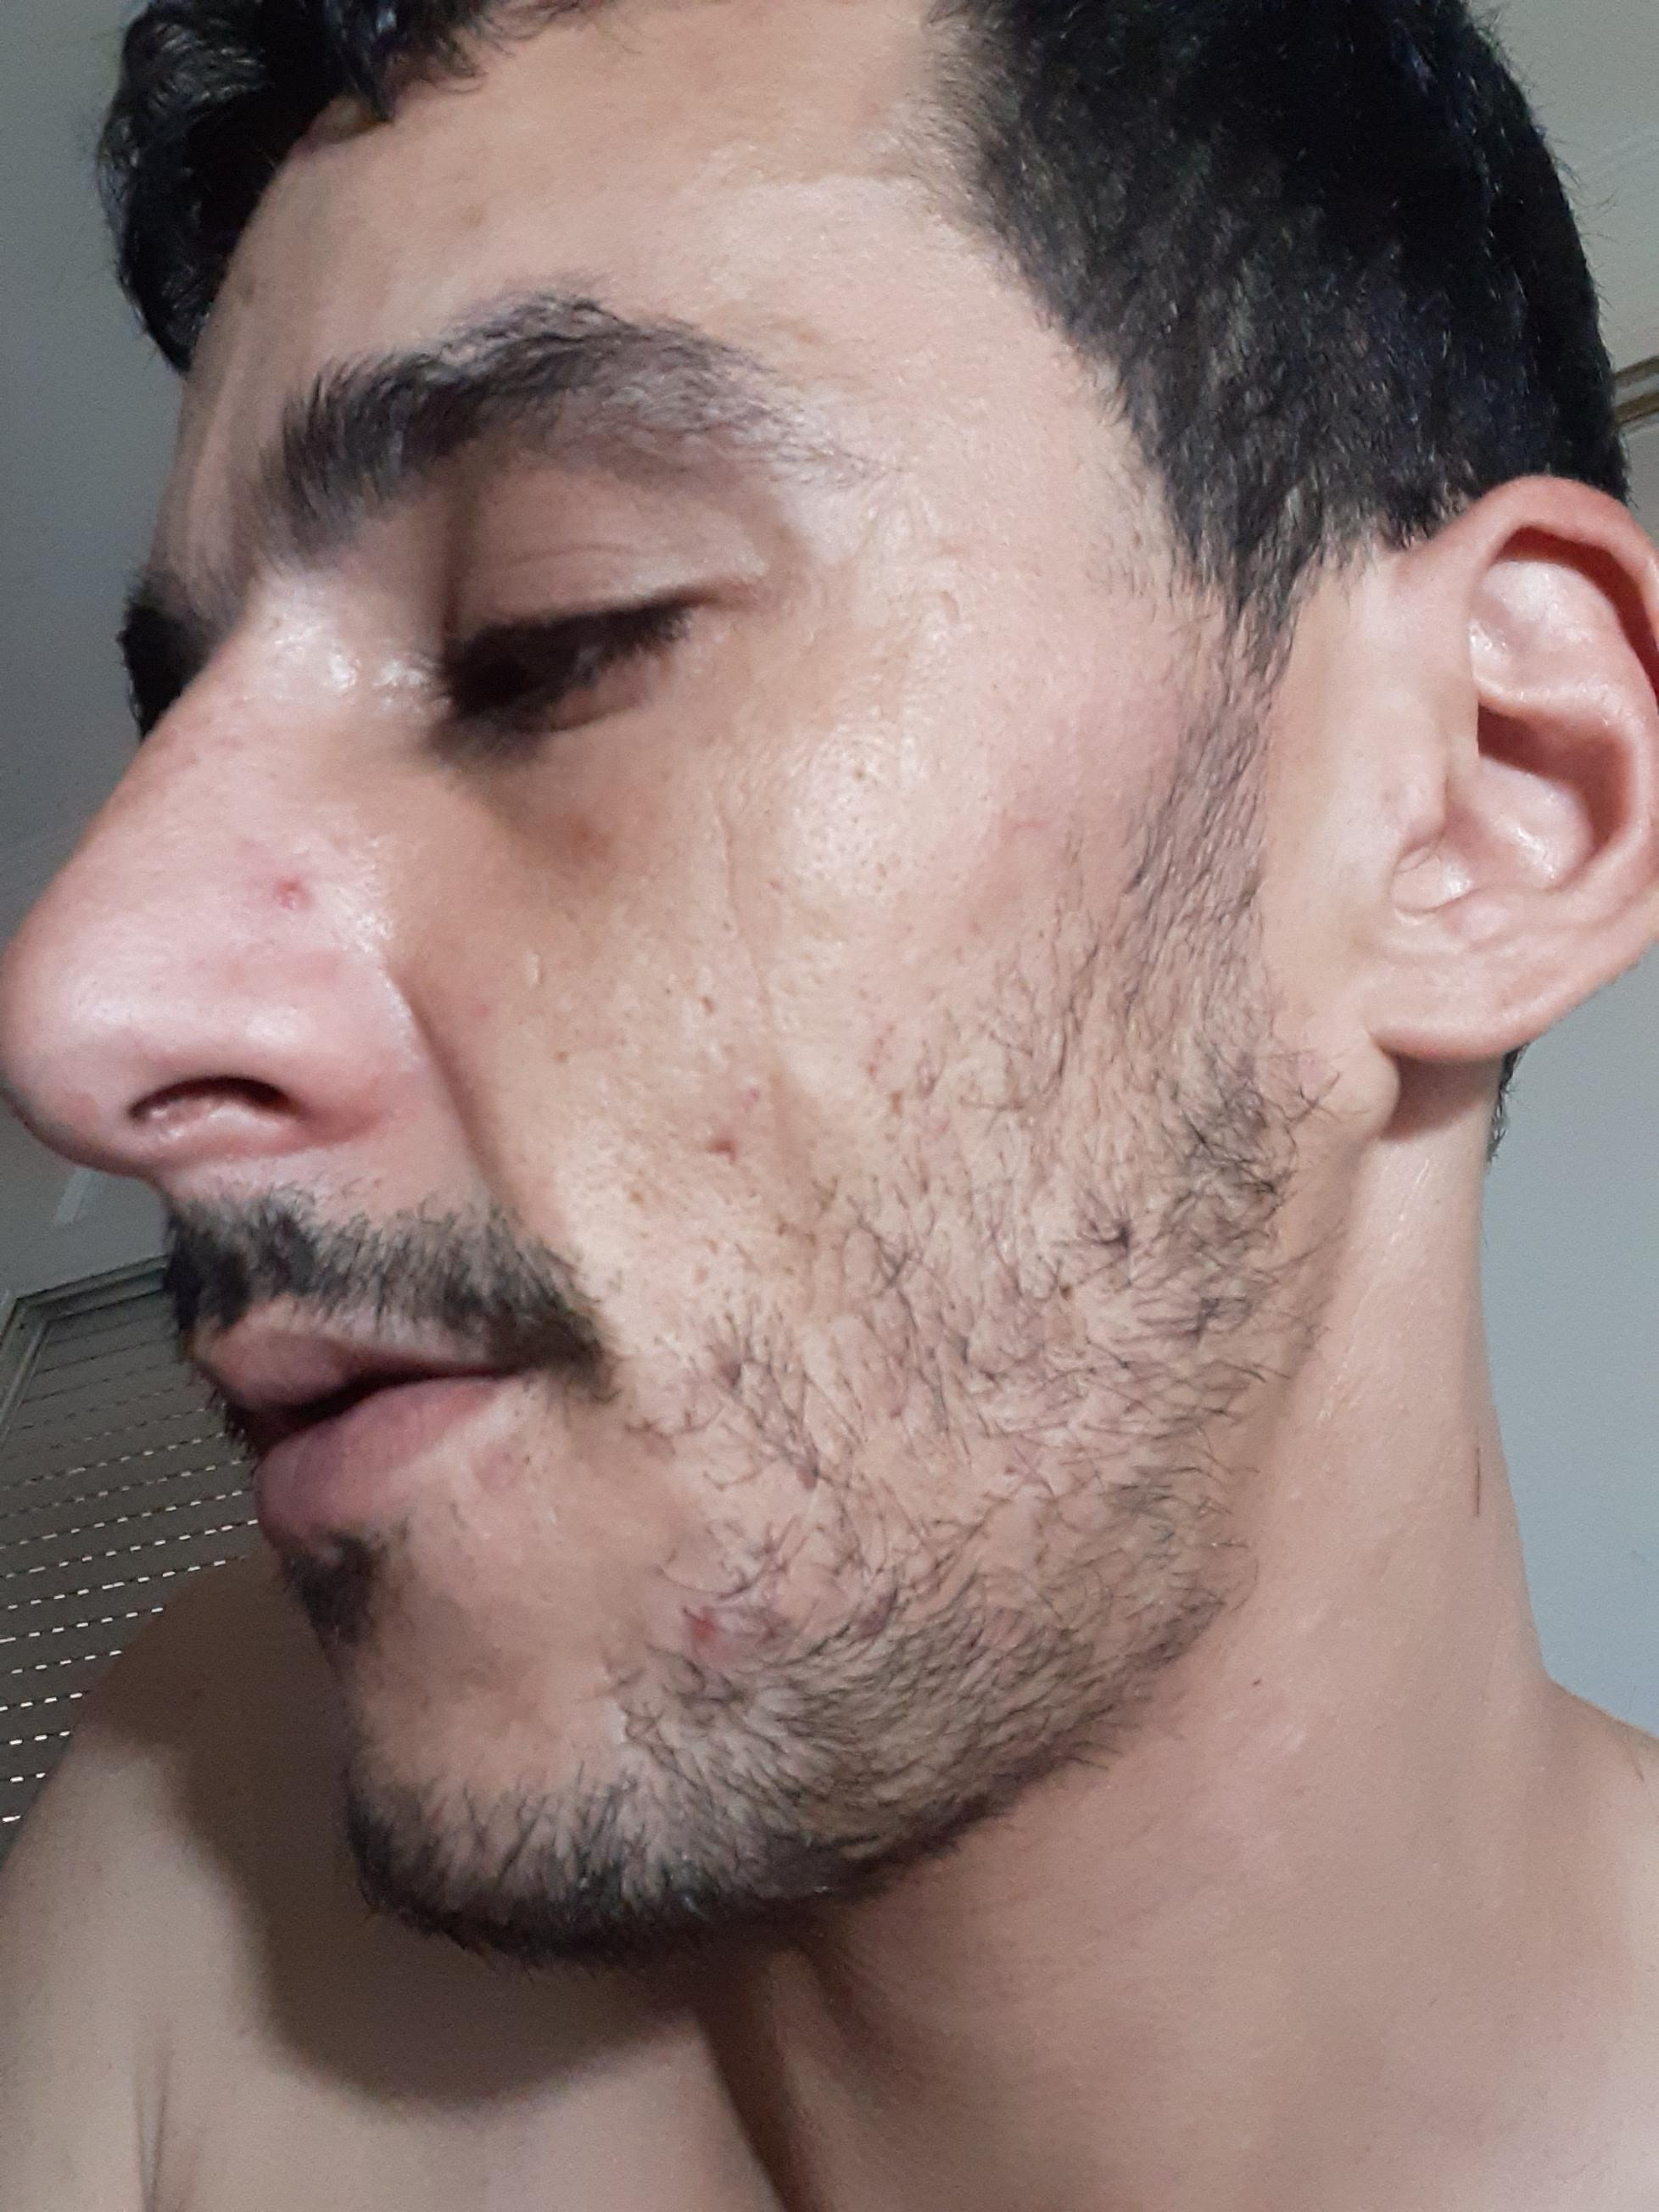Acne: (554, 817, 622, 874), (263, 862, 315, 925), (678, 1602, 730, 1655), (450, 192, 498, 246), (235, 268, 258, 310)
Englarged-Pores: (561, 977, 800, 1277)
